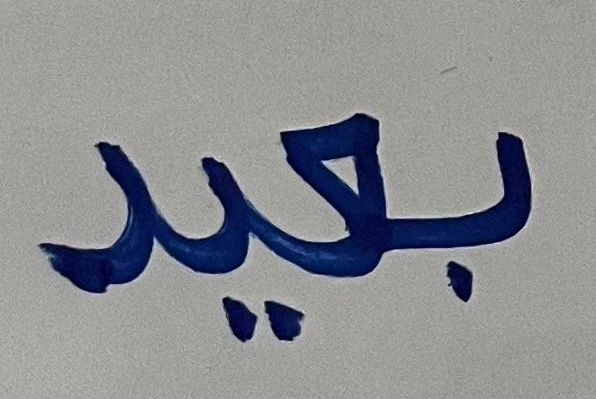ain: (285, 106, 405, 290)
beh: (411, 88, 554, 326)
dal: (25, 44, 166, 315)
yeh: (169, 129, 282, 352)
